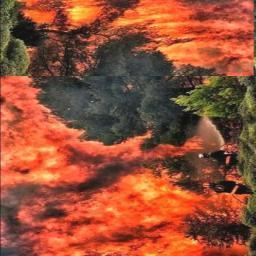Large fire: (0, 77, 256, 256), (1, 0, 255, 76)
